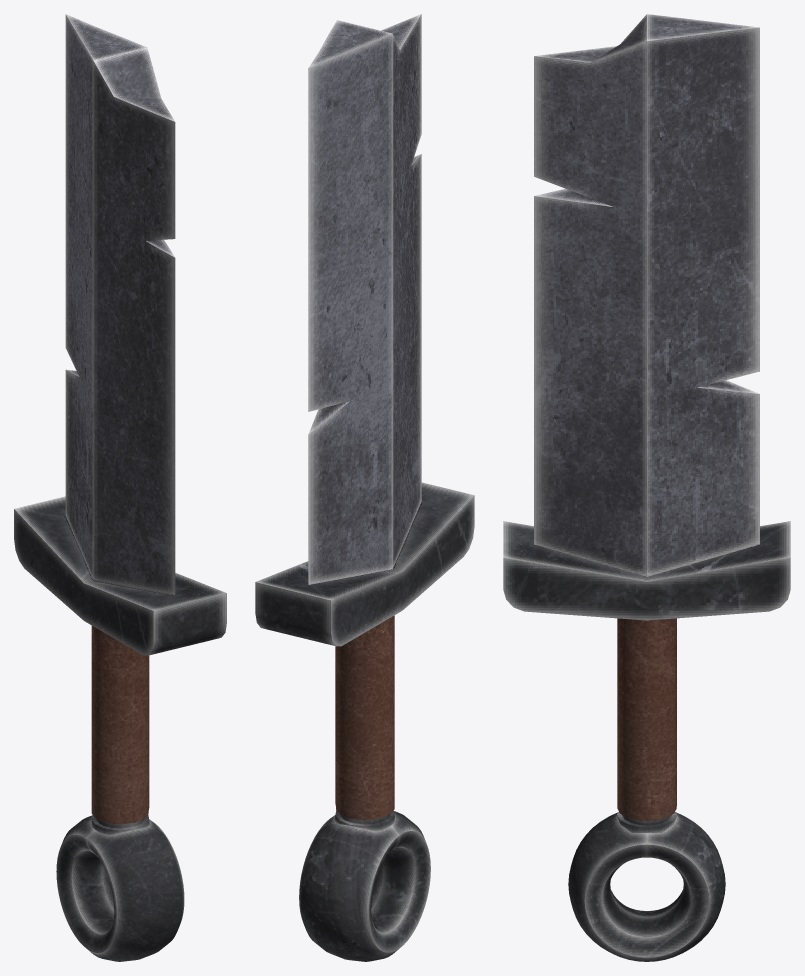
File: PGameSwordDraft.gltf
3 renders of one model, left to right at view 1: azimuth 30°, elevation 25°; view 2: azimuth 150°, elevation 25°; view 3: azimuth 270°, elevation 25°, orthographic. The views are drawn at different scales.
Visible parts, largest first — view 1: Torus.002; view 2: Torus.002; view 3: Torus.002.
Boxes of the visible parts, x1,y1,x2,y2 form: Torus.002: [14, 14, 226, 961]; Torus.002: [255, 14, 474, 961]; Torus.002: [503, 14, 790, 961].
Bounding box in the file's own units: 1.78 × 20.91 × 5.87.
Materials: 1 (1 with a texture image).
